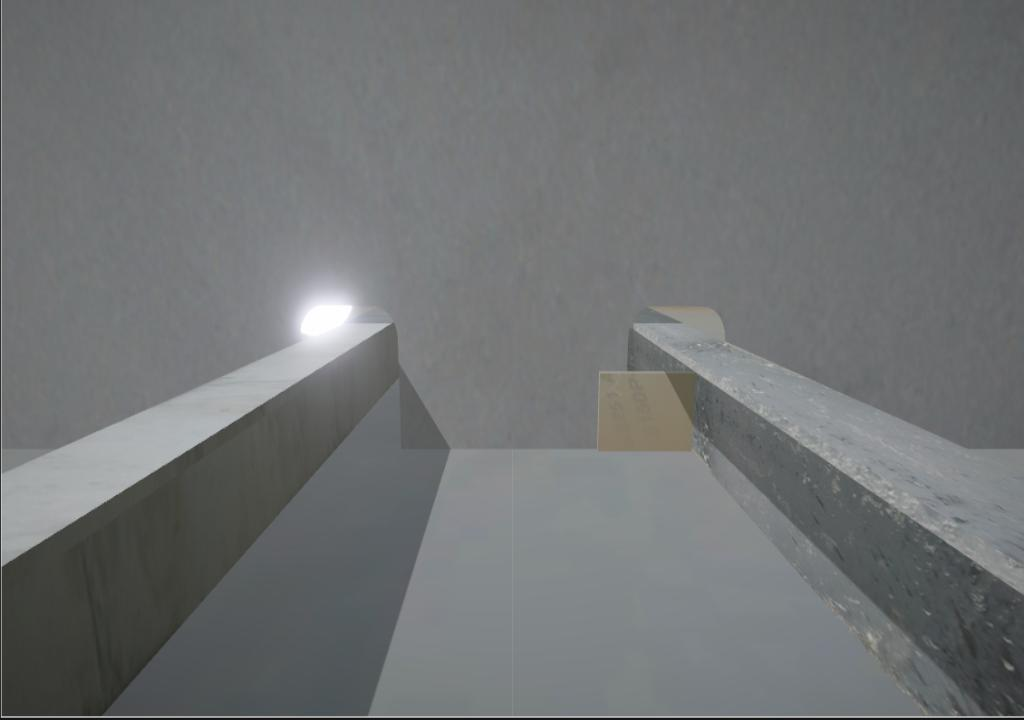fillet_yong_jeop_jang: (399, 440, 603, 460)
plate_CP01: (597, 370, 697, 453)
